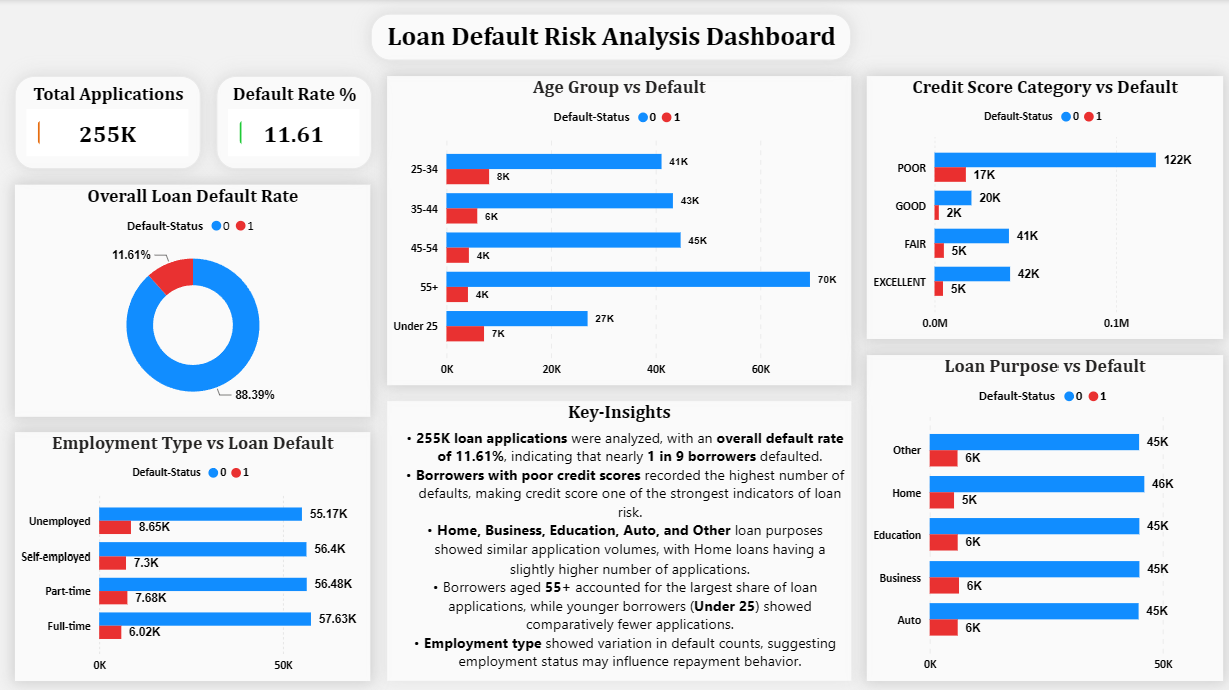

What the dashboard file says about the page in this screenshot:
{"tool":"powerbi","page":{"name":"Loan Default Risk Analysis Dashboard","canvas":[1280,720],"ordinal":0},"visuals":[{"type":"cardVisual","title":"Total Applications","fields":{"Data":["Sum(total_records.total_records)"]},"box":[16,80,192,96],"z":0},{"type":"cardVisual","title":"Default Rate %","fields":{"Data":["Sum(default_rate.default_rate)"]},"box":[224,80,160,96],"z":1000},{"type":"donutChart","title":"Overall Loan Default Rate","fields":{"Y":["Sum(overall_loan_default_rate.percentage)"],"Series":["overall_loan_default_rate.total"],"Category":["overall_loan_default_rate.Default"]},"box":[16,192,368,240],"z":2000},{"type":"clusteredBarChart","title":"Loan Purpose vs Default","fields":{"Category":["loan_purpose_vs_default.loan_purpose"],"Y":["Sum(loan_purpose_vs_default.default_rate_count)"],"Series":["loan_purpose_vs_default.defauLt"]},"box":[896,368,368,336],"z":3000},{"type":"clusteredBarChart","title":" Employment Type vs Loan Default","fields":{"Category":["employment_type_vs_loan_default.employment_type"],"Y":["Sum(employment_type_vs_loan_default.default_rate_count)"],"Series":["employment_type_vs_loan_default.default"]},"box":[16,448,368,256],"z":4000},{"type":"clusteredBarChart","title":"Age Group vs Default","fields":{"Series":["age_group_vs_default.default"],"Y":["Sum(age_group_vs_default.total)"],"Category":["age_group_vs_default.age_group"]},"box":[400,80,480,320],"z":5000},{"type":"clusteredBarChart","title":"Credit Score Category vs Default","fields":{"Category":["credit_score_category_vs_default.credit_score_category"],"Series":["credit_score_category_vs_default.default"],"Y":["Sum(credit_score_category_vs_default.total)"]},"box":[896,80,368,272],"z":6000},{"type":"textbox","title":"Key-Insights","box":[400,416,480,288],"z":7000},{"type":"textbox","title":"Loan Default Risk Analysis Dashboard","box":[384,16,496,48],"z":8000}]}

Visuals, with their boxes in screenshot pixels (x1, y1, x2, y2), scaled from the page's 1280x720 canvas onto the 1229x690 screenshot:
"Total Applications" cardVisual: [15, 77, 200, 169]
"Default Rate %" cardVisual: [215, 77, 369, 169]
"Overall Loan Default Rate" donutChart: [15, 184, 369, 414]
"Loan Purpose vs Default" clusteredBarChart: [860, 353, 1214, 675]
" Employment Type vs Loan Default" clusteredBarChart: [15, 429, 369, 675]
"Age Group vs Default" clusteredBarChart: [384, 77, 845, 383]
"Credit Score Category vs Default" clusteredBarChart: [860, 77, 1214, 337]
"Key-Insights" textbox: [384, 399, 845, 675]
"Loan Default Risk Analysis Dashboard" textbox: [369, 15, 845, 61]
